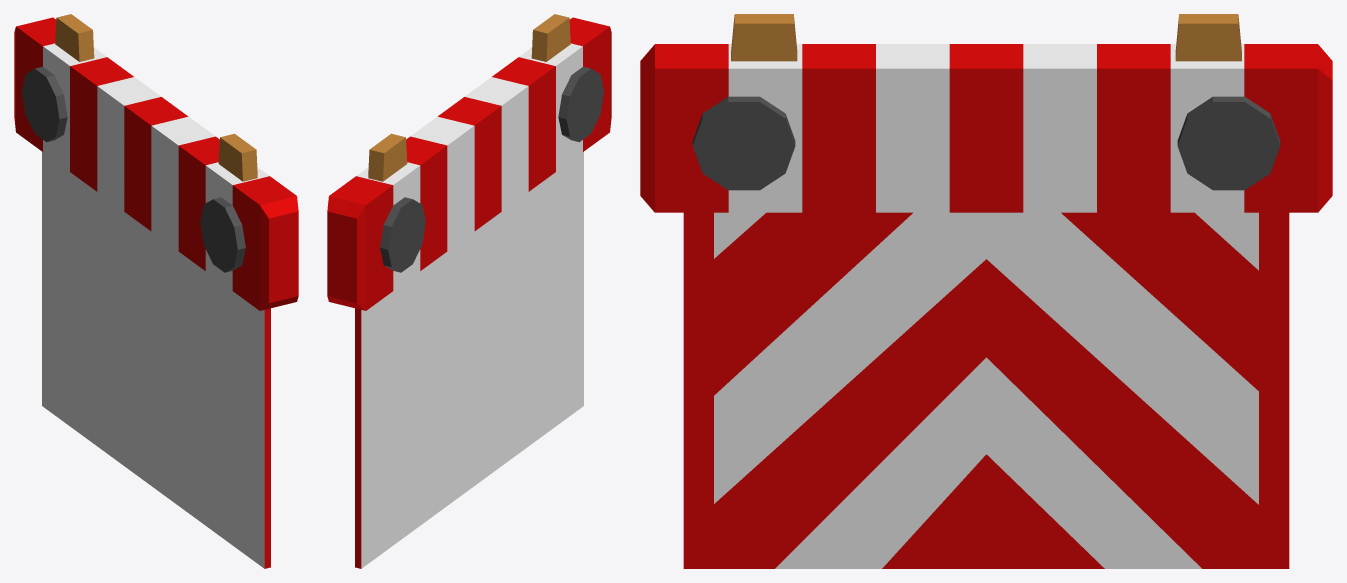
File: block 2.fbx
3 renders of one model, left to right at view 1: azimuth 30°, elevation 25°; view 2: azimuth 150°, elevation 25°; view 3: azimuth 270°, elevation 25°, orthographic. The views are drawn at different scales.
Visible parts, largest first — view 1: Cube.003, Cube.001, Cylinder.002, plane.001; view 2: Cube.003, Cube.001, Cylinder.002, plane.001; view 3: Cube.003, Cube.001, Cylinder.002, plane.001.
Boxes of the visible parts, x1,y1,x2,y2 form: Cube.003: [42, 152, 270, 568]; Cube.001: [14, 17, 298, 310]; Cylinder.002: [21, 66, 245, 272]; plane.001: [55, 14, 257, 181]; Cube.003: [355, 152, 583, 568]; Cube.001: [327, 17, 611, 310]; Cylinder.002: [380, 66, 604, 272]; plane.001: [368, 14, 570, 181]; Cube.003: [683, 212, 1289, 568]; Cube.001: [640, 44, 1332, 212]; Cylinder.002: [692, 96, 1280, 190]; plane.001: [731, 14, 1241, 61].
Size of the model in its own units: 17.28 by 125 by 143.
